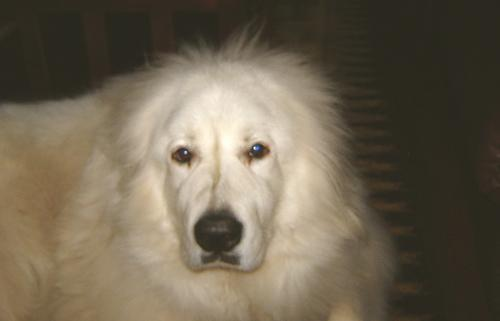Great_Pyrenees: (0, 26, 400, 320)
